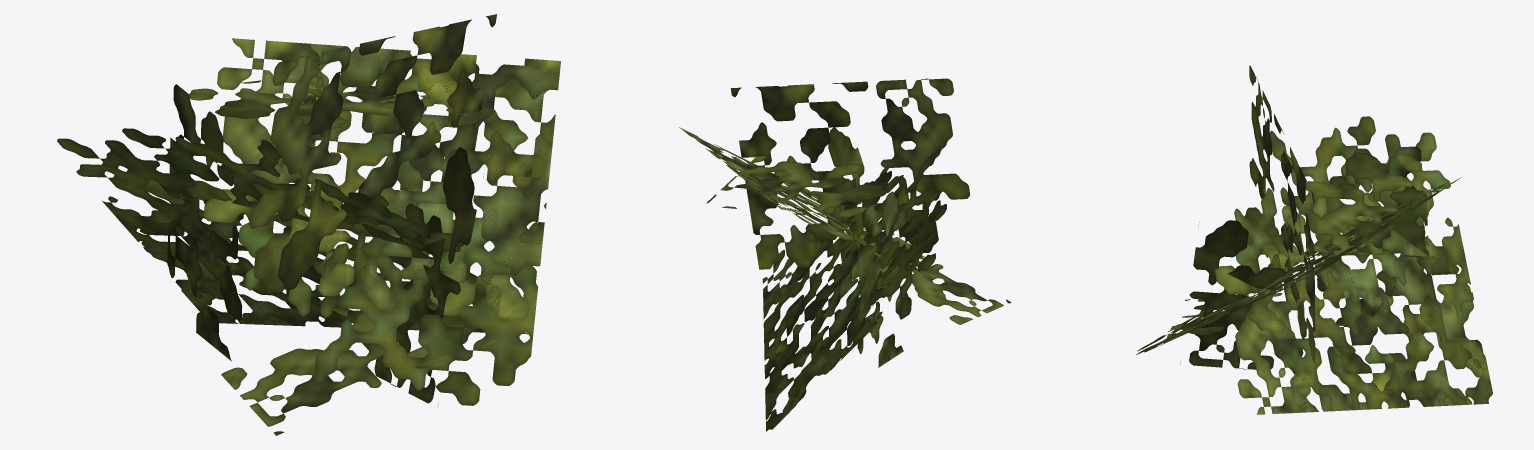
File: ash_leaves_yellowish_vertical_slab_4.obj
The picture shows the model from 3 angles, left to right: view 1: azimuth 30°, elevation 25°; view 2: azimuth 150°, elevation 25°; view 3: azimuth 270°, elevation 25°; orthographic projection. The views are drawn at different scales.
Visible parts, largest first — view 1: cube; view 2: cube; view 3: cube.
Boxes of the visible parts, bbox=[...] form: cube: bbox=[57, 14, 560, 435]; cube: bbox=[679, 78, 1011, 431]; cube: bbox=[1136, 65, 1492, 414].
Size of the model in its own units: 2.85 by 2.25 by 2.69.
